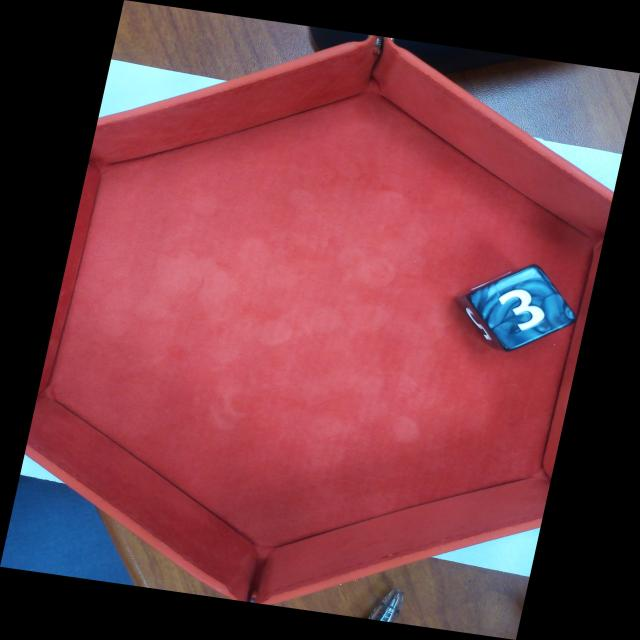dice: (470, 266, 578, 350)
